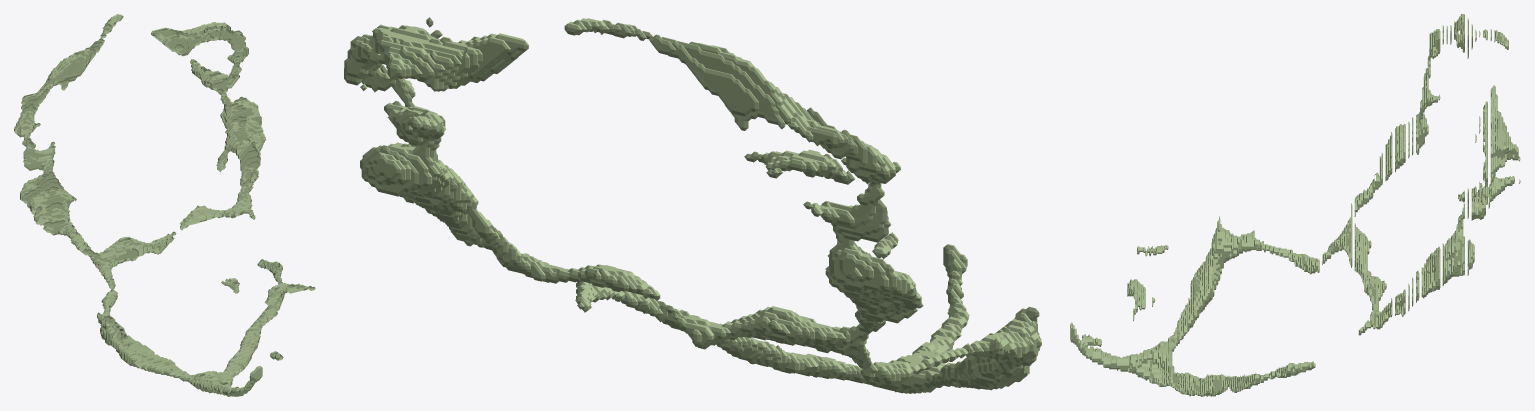
The model's file is SVV_RIH.gltf.
3 renders of one model, left to right at view 1: azimuth 30°, elevation 25°; view 2: azimuth 150°, elevation 25°; view 3: azimuth 270°, elevation 25°, orthographic. The views are drawn at different scales.
Visible parts, largest first — view 1: RIH; view 2: RIH; view 3: RIH.
Boxes of the visible parts, x1,y1,x2,y2 form: RIH: (14, 14, 315, 396); RIH: (344, 17, 1041, 393); RIH: (1070, 14, 1520, 396).
Bounding box in the file's own units: 78360 × 80436 × 90419.
